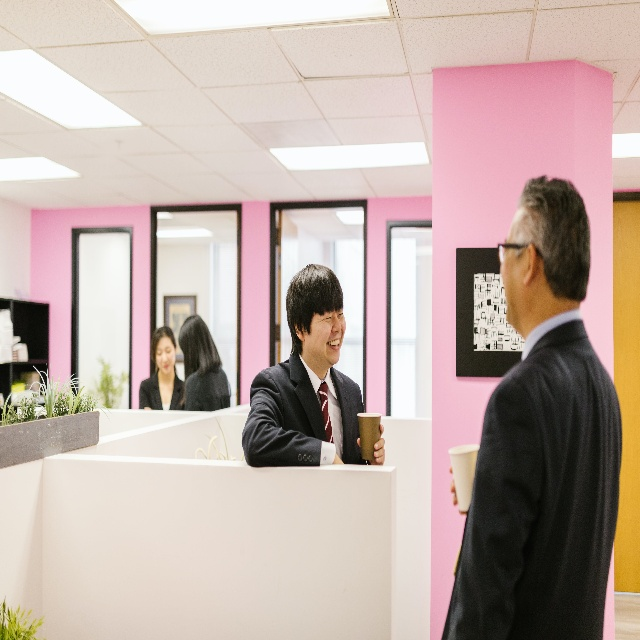Gafas: (497, 236, 541, 265)
Sin_guantes: (357, 421, 384, 460)
